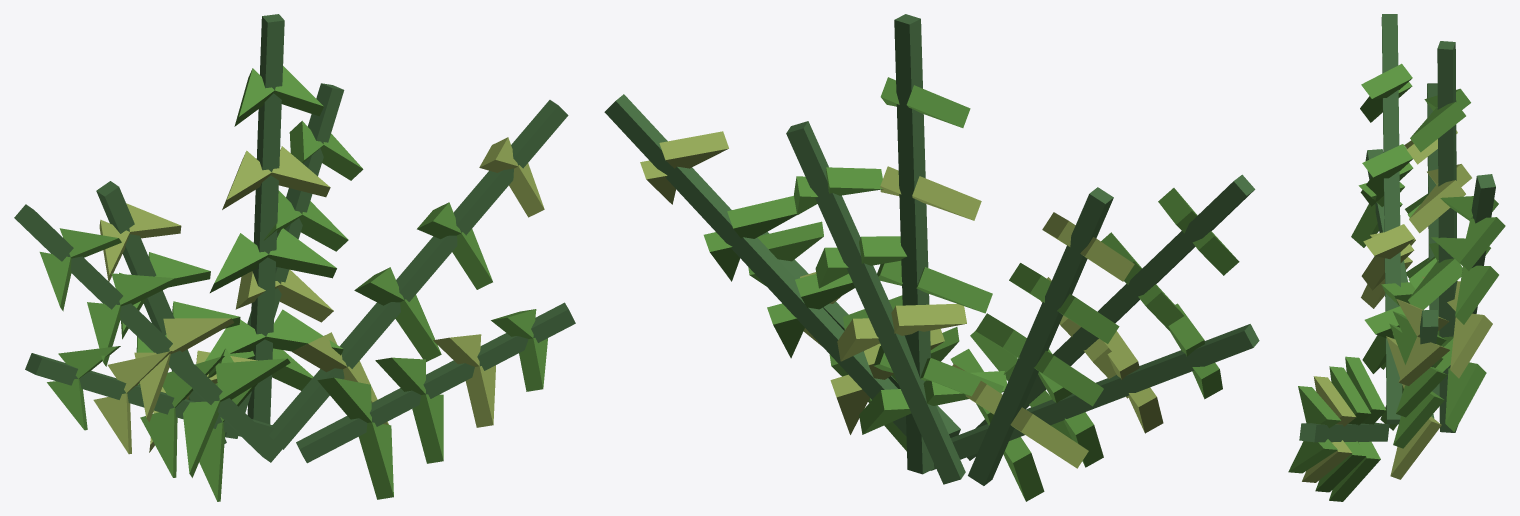
Rendered from fg-fern.glb.
3 renders of one model, left to right at view 1: azimuth 30°, elevation 25°; view 2: azimuth 150°, elevation 25°; view 3: azimuth 270°, elevation 25°, orthographic. The views are drawn at different scales.
Visible parts, largest first — view 1: Stem.005, Stem.003, Stem.001, Stem.006, Stem, Stem.002, Stem.004, Leaflet.049, Leaflet.009, Leaflet.027, Leaflet.051, Leaflet.008 (+44 smaller); view 2: Stem.004, Stem.005, Stem.003, Stem.002, Stem, Stem.001, Leaflet.034, Leaflet.044, Leaflet.016, Leaflet.026, Leaflet.046, Leaflet.028 (+29 smaller); view 3: Stem.001, Stem.003, Stem.006, Leaflet.033, Leaflet.035, Leaflet.037, Leaflet.027, Leaflet.039, Leaflet.031, Leaflet.029, Leaflet.048, Leaflet.041 (+36 smaller).
Boxes of the visible parts, bbox=[...] form: Stem.005: bbox=[269, 100, 568, 449]; Stem.003: bbox=[247, 14, 284, 424]; Stem.001: bbox=[14, 204, 282, 462]; Stem.006: bbox=[296, 302, 575, 463]; Stem: bbox=[25, 353, 274, 436]; Stem.002: bbox=[96, 181, 226, 443]; Stem.004: bbox=[225, 83, 344, 438]; Leaflet.049: bbox=[359, 422, 393, 499]; Leaflet.009: bbox=[215, 358, 290, 401]; Leaflet.027: bbox=[268, 228, 336, 278]; Leaflet.051: bbox=[412, 394, 443, 463]; Leaflet.008: bbox=[183, 400, 220, 477]; Stem.004: bbox=[786, 121, 965, 484]; Stem.005: bbox=[604, 94, 906, 436]; Stem.003: bbox=[894, 14, 934, 474]; Stem.002: bbox=[968, 187, 1113, 485]; Stem: bbox=[930, 324, 1259, 470]; Stem.001: bbox=[967, 174, 1255, 460]; Leaflet.034: bbox=[891, 304, 966, 335]; Leaflet.044: bbox=[727, 196, 796, 238]; Leaflet.016: bbox=[1010, 407, 1088, 468]; Leaflet.026: bbox=[916, 267, 992, 313]; Leaflet.046: bbox=[659, 131, 728, 168]; Leaflet.028: bbox=[912, 176, 981, 220]; Stem.001: bbox=[1381, 14, 1402, 424]; Stem.003: bbox=[1437, 41, 1457, 432]; Stem.006: bbox=[1299, 422, 1389, 442]; Leaflet.033: bbox=[1445, 362, 1486, 431]; Leaflet.035: bbox=[1450, 313, 1492, 378]; Leaflet.037: bbox=[1455, 265, 1498, 324]; Leaflet.027: bbox=[1408, 258, 1462, 309]; Leaflet.039: bbox=[1460, 217, 1505, 270]; Leaflet.031: bbox=[1410, 102, 1465, 152]; Leaflet.029: bbox=[1409, 180, 1465, 233]; Leaflet.048: bbox=[1345, 356, 1386, 424]; Leaflet.041: bbox=[1390, 416, 1441, 479].
Size of the model in its own units: 1.51 by 1.16 by 0.5264.
